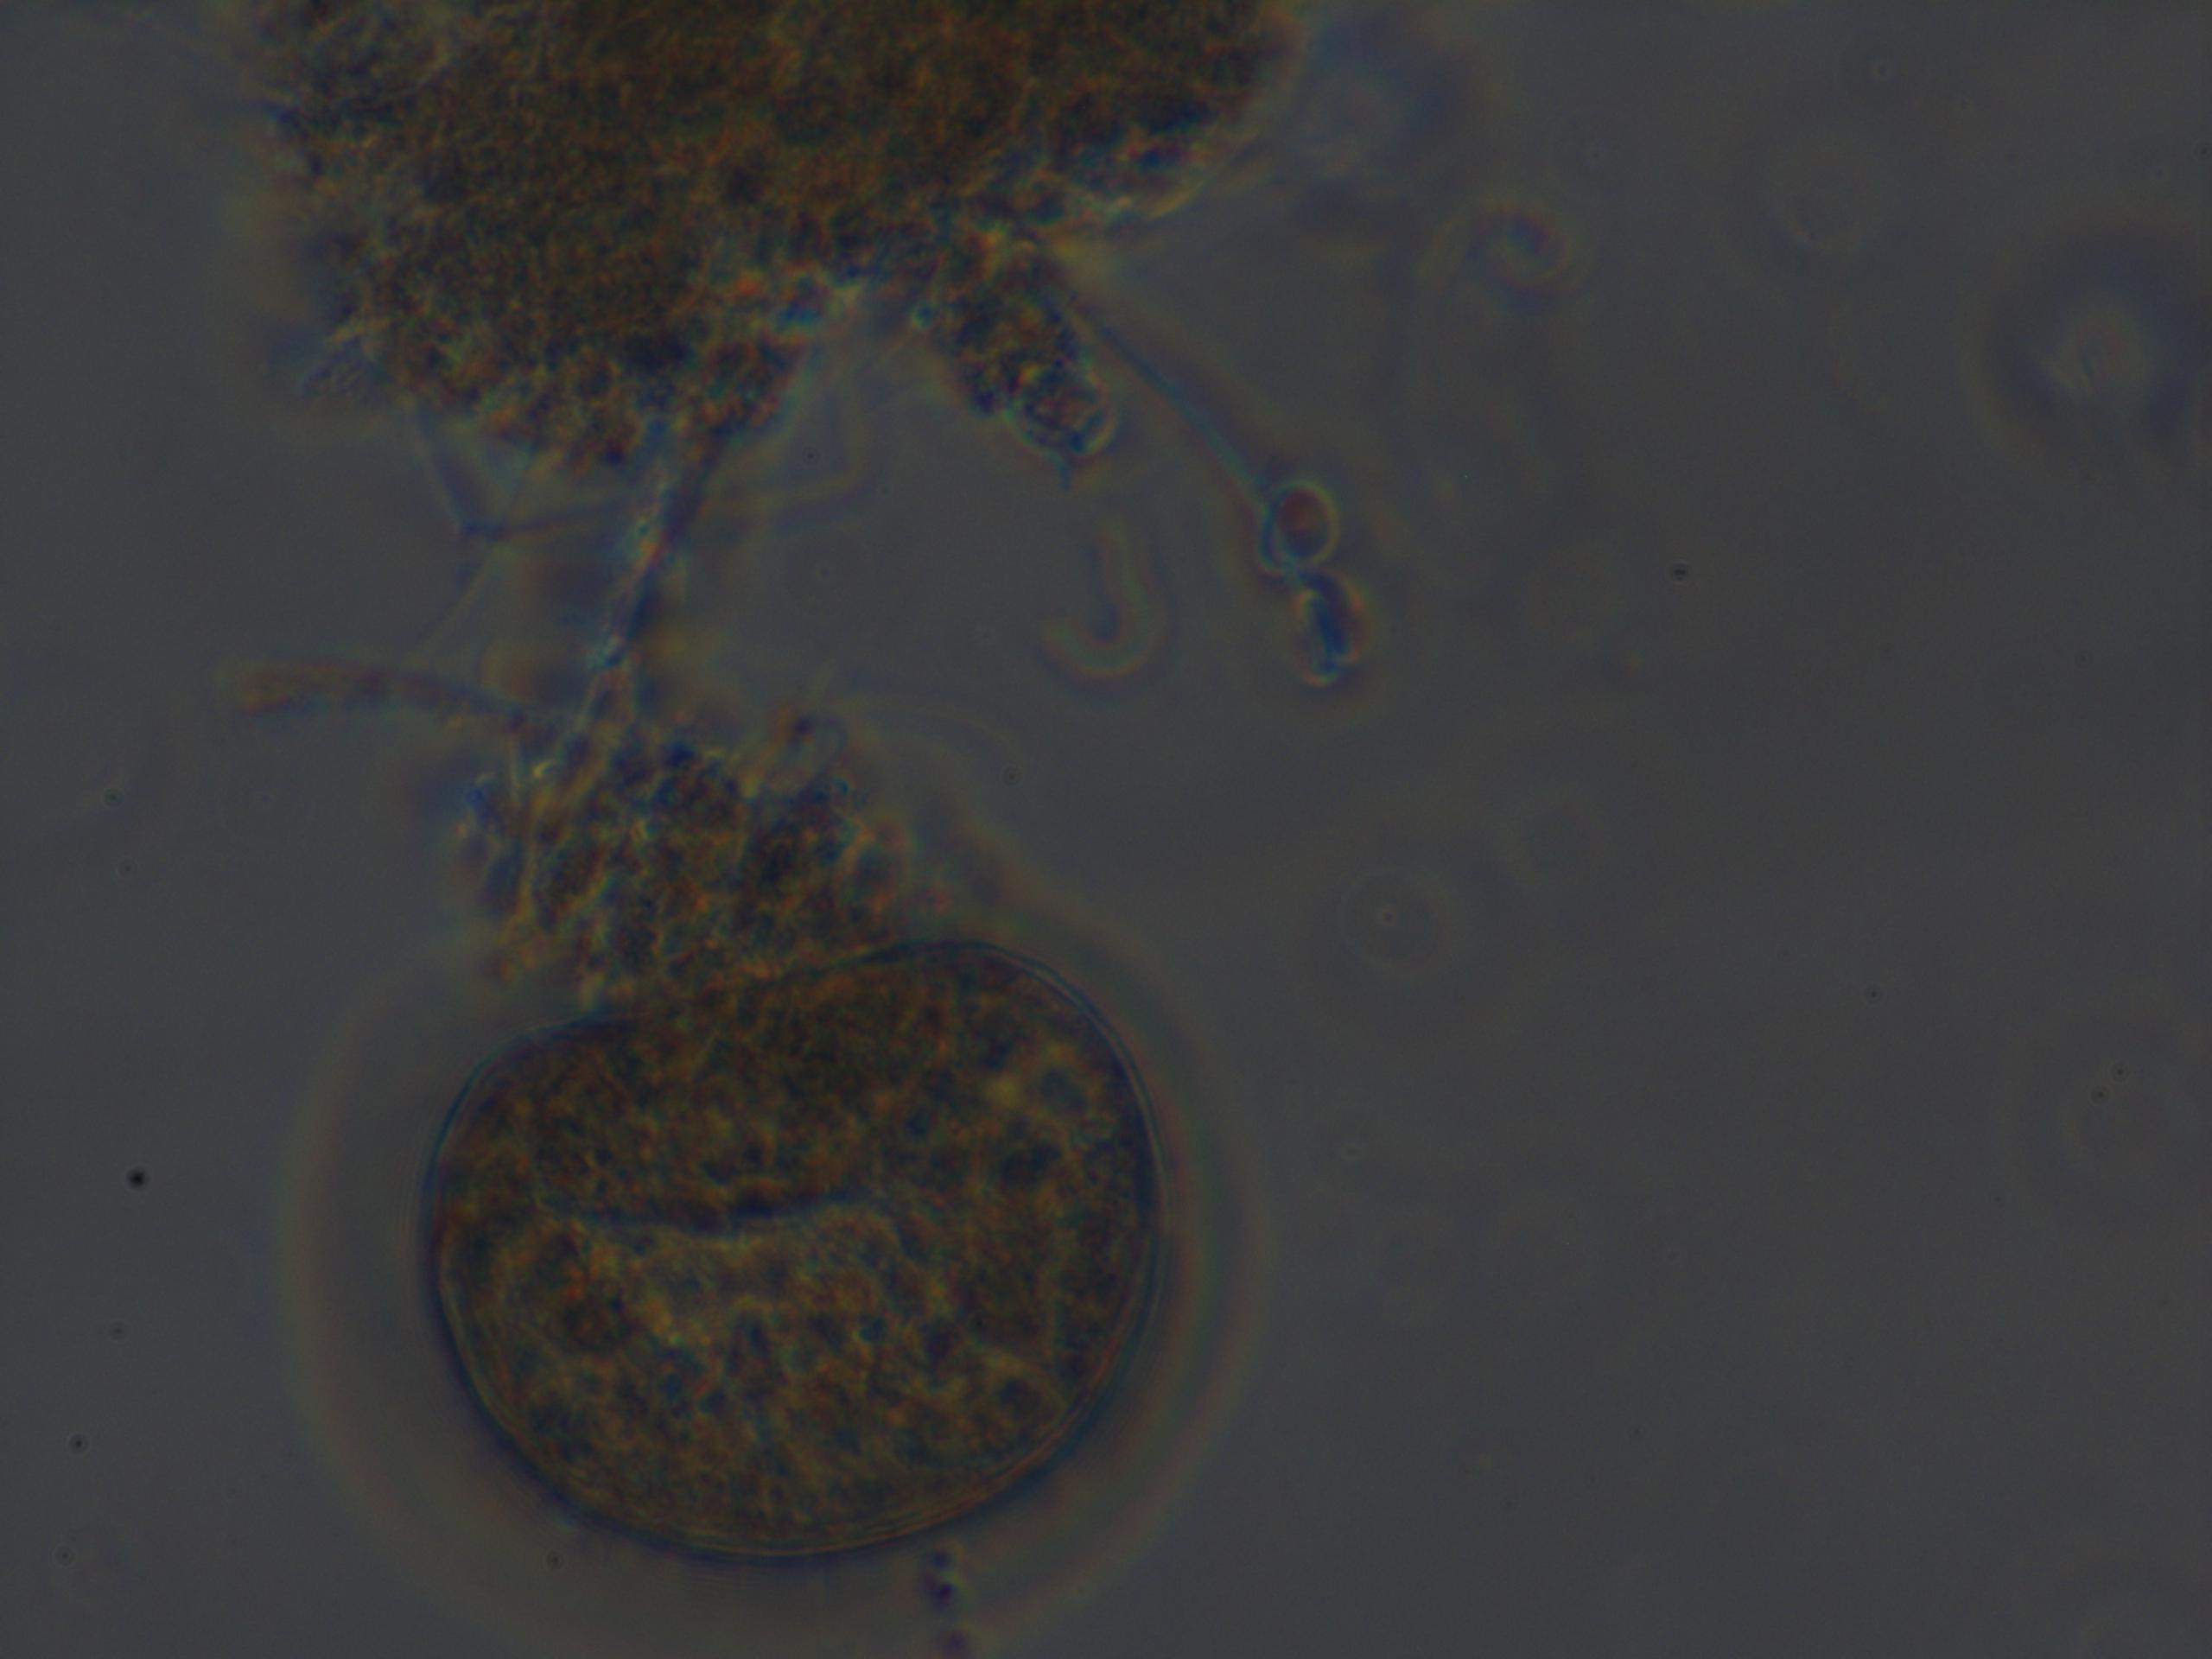filament: (1005, 251, 1393, 699), (552, 462, 714, 727), (230, 640, 545, 762)
protozoa: (273, 917, 1292, 1659)
